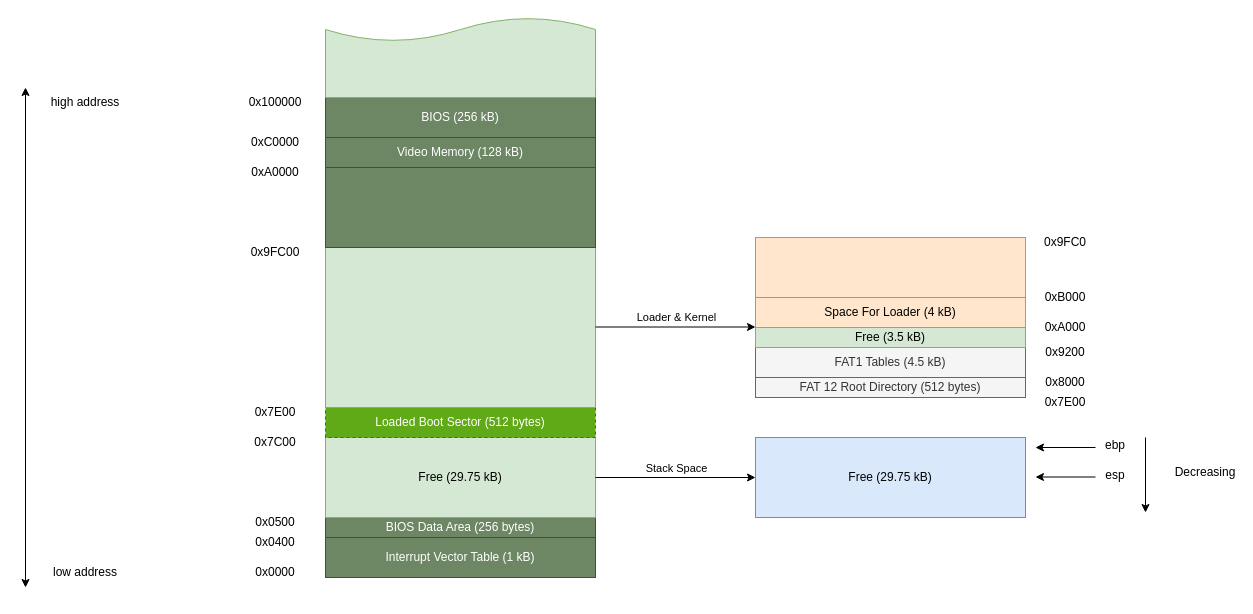
Image size: 1253x614. Some labels were removed from this diagram. Here are the shapes that lost their labels. From the top down, the centre of each, then its label:
the point at 460,207: Extended BIOS Data Area (639 kB)
the point at 890,267: Space For Kernel (595 kB)
the point at 460,327: Free (638 kB)
